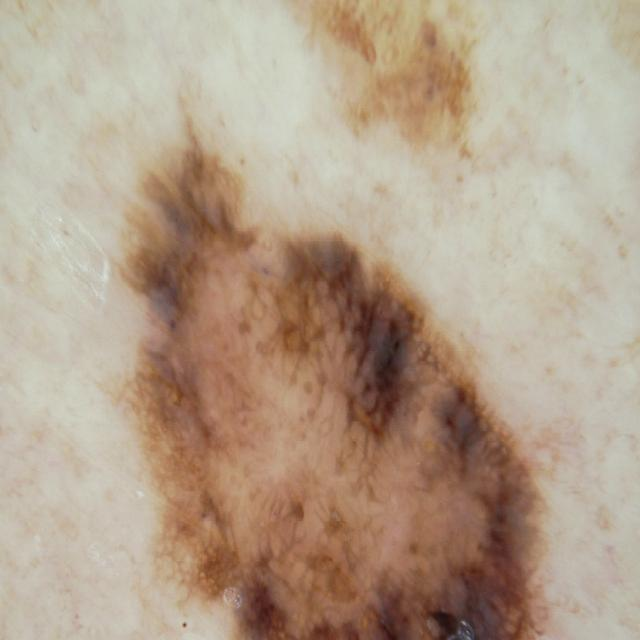Melanoma: (90, 139, 602, 640)
